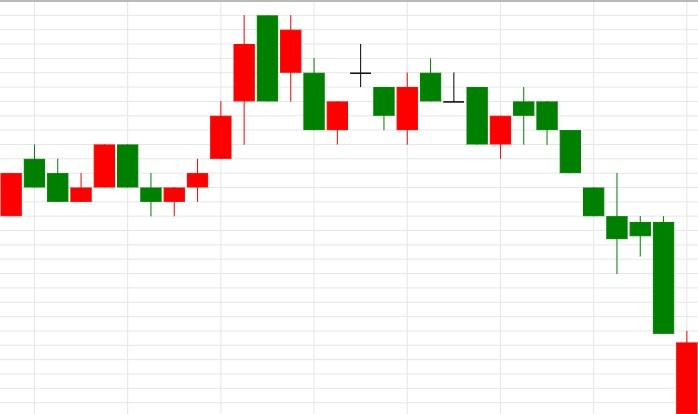three_white_soldiers_rise: (93, 101, 233, 217)
